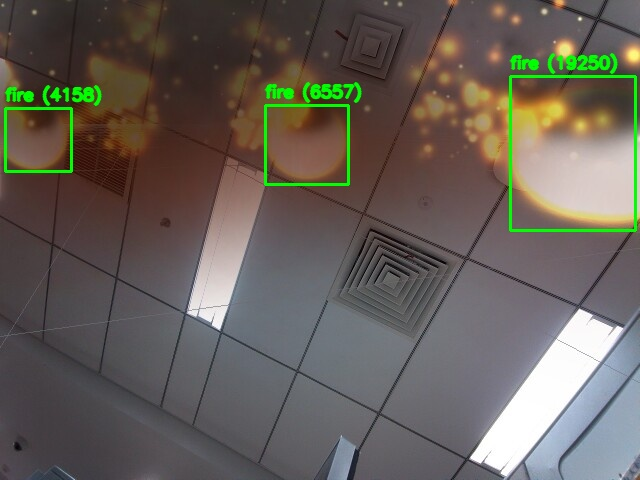fire: (510, 76, 635, 230), (265, 105, 348, 184), (5, 108, 71, 171)
